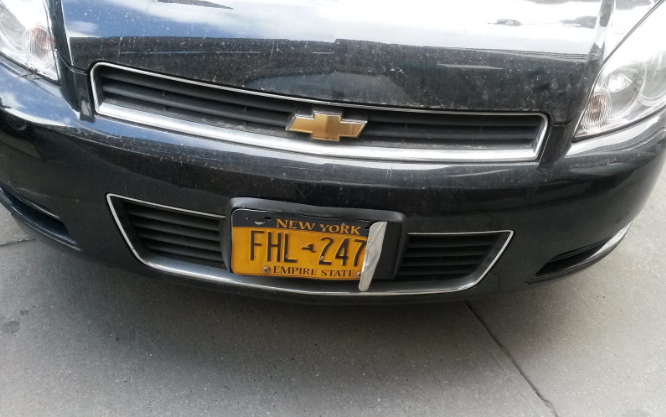license plate: (226, 207, 402, 290)
